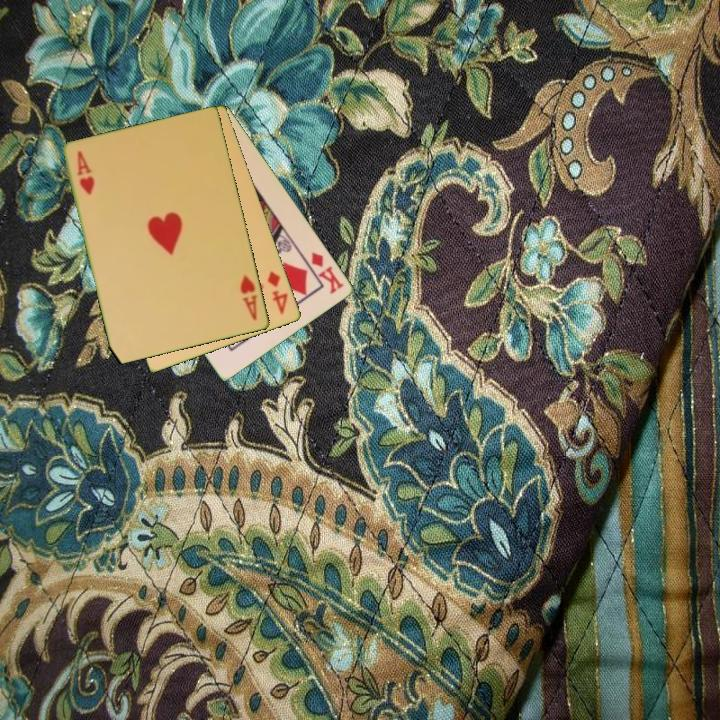4d: (264, 267, 291, 317)
Ah: (237, 272, 260, 324), (74, 148, 97, 197)
Kd: (308, 248, 347, 297)
